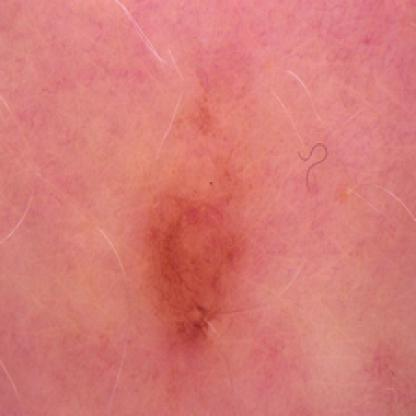benign: (128, 46, 258, 377)
